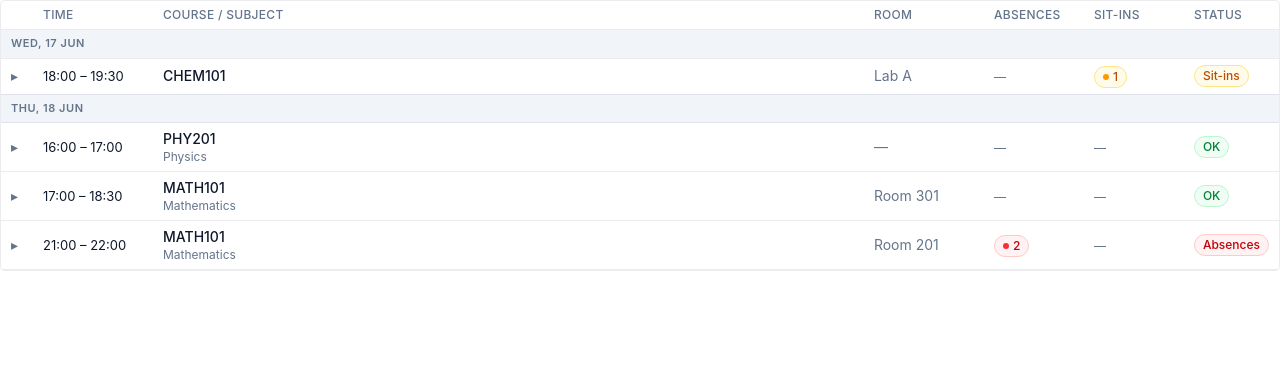
SessionTable › expanded sit-in detail shows visitor info
Click the text "CHEM101" at x=194, y=76, box x1=163 y1=67 x2=226 y2=84
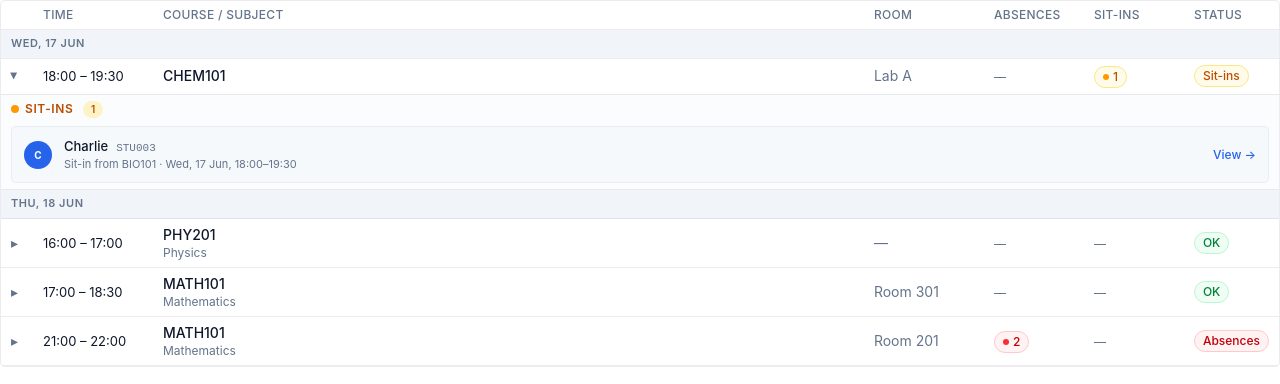
expect the text "Charlie" is shown: met, box x1=64 y1=137 x2=108 y2=156
expect the text "STU003" is shown: met, box x1=116 y1=141 x2=156 y2=157
expect the text "Sit-in from BIO101 · Wed, 17 Jun, 18:00–19:30" is shown: met, box x1=64 y1=157 x2=297 y2=171
